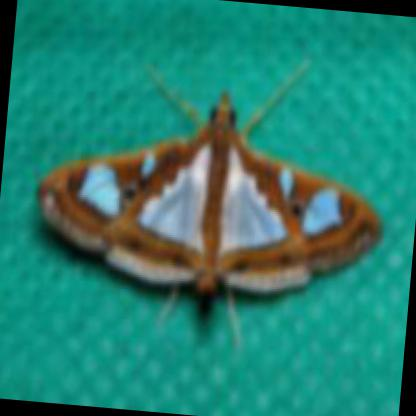Leaf Webber: (29, 82, 390, 306)
